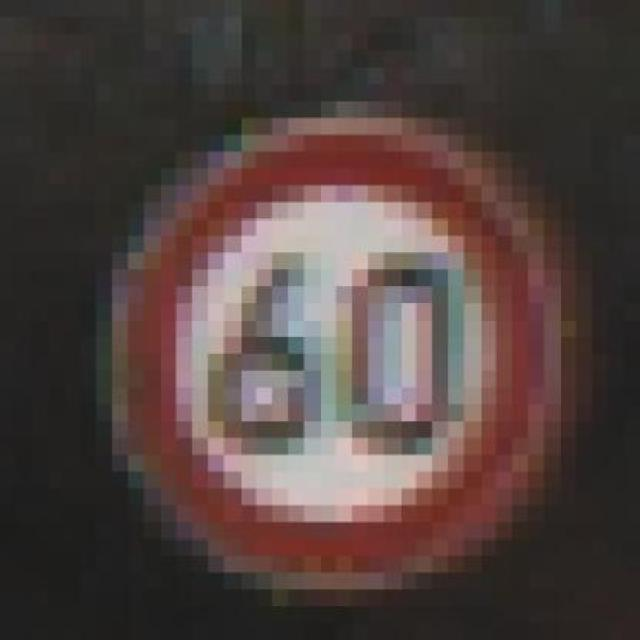forb_speed_over_60: (132, 122, 541, 573)
